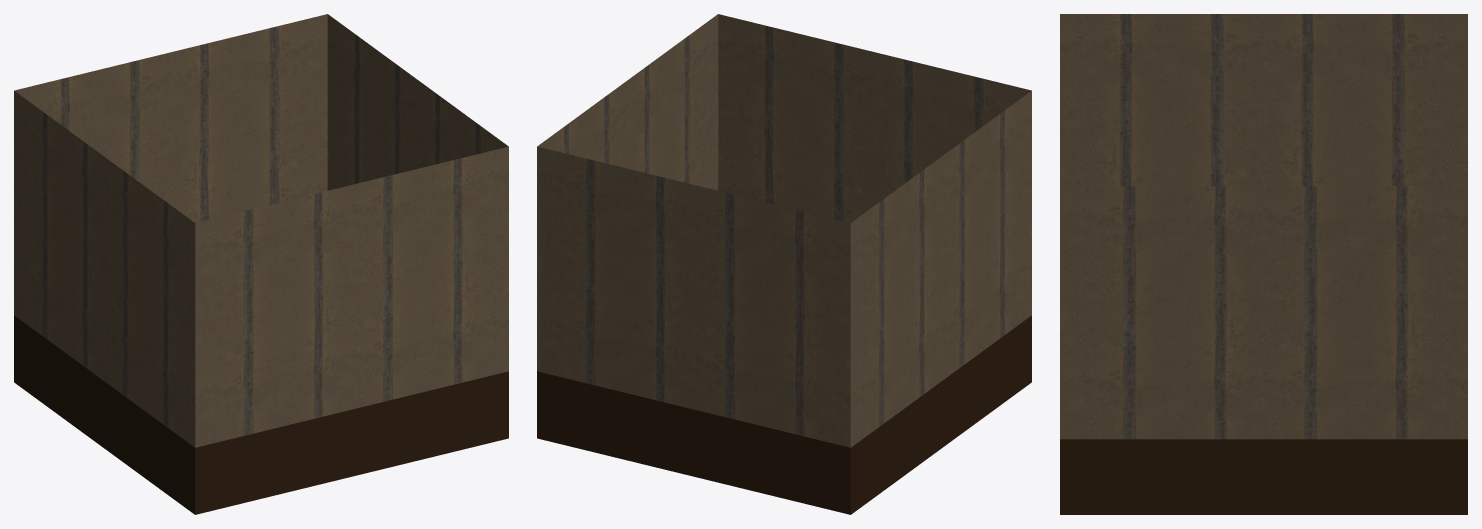
File: room.obj
3 views of the same model, side by side, from view 1: azimuth 30°, elevation 25°; view 2: azimuth 150°, elevation 25°; view 3: azimuth 270°, elevation 25° (orthographic). The views are drawn at different scales.
Visible parts, largest first — view 1: room; view 2: room; view 3: room.
Boxes of the visible parts, bbox=[...] form: room: bbox=[14, 14, 508, 514]; room: bbox=[537, 14, 1031, 514]; room: bbox=[1060, 14, 1467, 514].
Size of the model in its own units: 4.5 by 4 by 4.5.
Materials: 3 (2 with a texture image).
